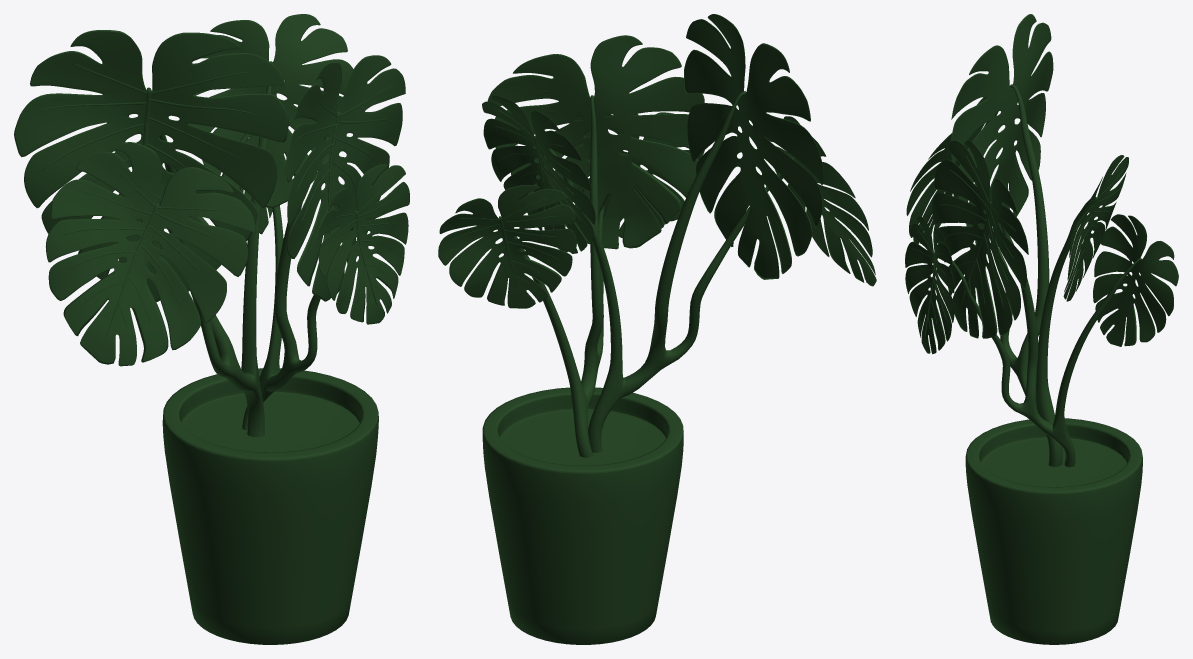
File: Plant_1.fbx
3 renders of one model, left to right at view 1: azimuth 30°, elevation 25°; view 2: azimuth 150°, elevation 25°; view 3: azimuth 270°, elevation 25°, orthographic. The views are drawn at different scales.
Visible parts, largest first — view 1: Plant_1; view 2: Plant_1; view 3: Plant_1.
Part boxes in pixels (x1,y1,x2,y2): Plant_1: [14, 14, 409, 644]; Plant_1: [438, 14, 876, 644]; Plant_1: [905, 14, 1178, 644].
Size of the model in its own units: 147 by 235 by 111.
